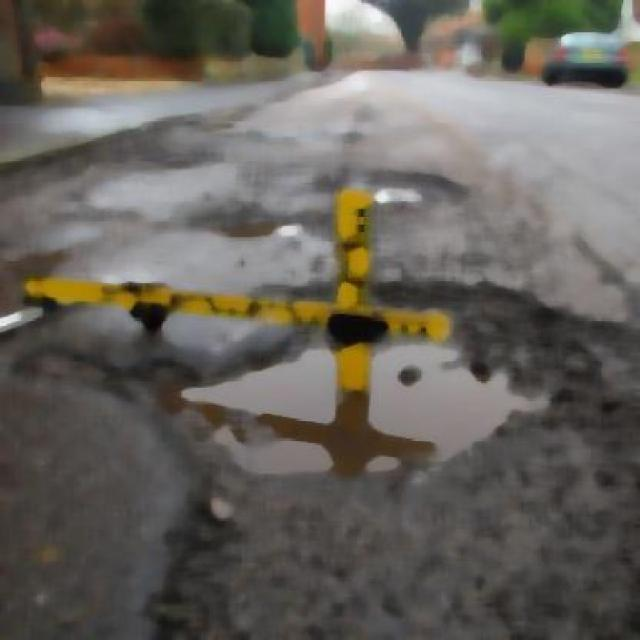pothole: (205, 293, 521, 490)
